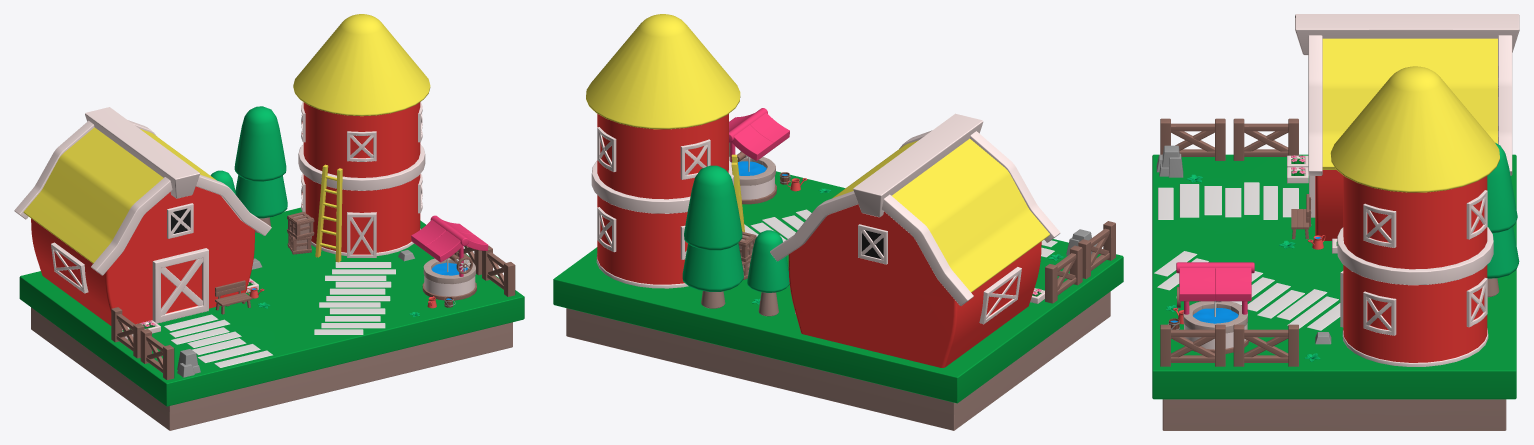
File: Farm_Island_9.glb
3 views of the same model, side by side, from view 1: azimuth 30°, elevation 25°; view 2: azimuth 150°, elevation 25°; view 3: azimuth 270°, elevation 25° (orthographic). The views are drawn at different scales.
Parts seen in each view (by area): view 1: Farm_9_Base_1, Farm_9_Barn_1, Farm_9_Barn_2, Farm_9_Tree_1, Farm_9_Well_1, Farm_9_Path_4, Farm_9_Path_3, Farm_9_Path_1, Farm_9_Ladder_1, Farm_9_Path_2, Farm_9_Fence_4, Farm_9_Fence_2 (+5 smaller); view 2: Farm_9_Barn_1, Farm_9_Base_1, Farm_9_Barn_2, Farm_9_Tree_1, Farm_9_Well_1, Farm_9_Tree_2, Farm_9_Fence_3, Farm_9_Fence_4, Farm_9_Path_3; view 3: Farm_9_Base_1, Farm_9_Barn_2, Farm_9_Barn_1, Farm_9_Well_1, Farm_9_Tree_1, Farm_9_Fence_1, Farm_9_Fence_2, Farm_9_Fence_3, Farm_9_Path_1, Farm_9_Path_3, Farm_9_Fence_4, Farm_9_Path_2 (+5 smaller).
Part boxes in pixels (bbox=[...]): Farm_9_Base_1: bbox=[19, 207, 524, 430]; Farm_9_Barn_1: bbox=[14, 107, 271, 325]; Farm_9_Barn_2: bbox=[293, 14, 430, 257]; Farm_9_Tree_1: bbox=[234, 106, 287, 232]; Farm_9_Well_1: bbox=[411, 215, 488, 300]; Farm_9_Path_4: bbox=[319, 288, 390, 314]; Farm_9_Path_3: bbox=[325, 262, 395, 287]; Farm_9_Path_1: bbox=[164, 314, 241, 347]; Farm_9_Ladder_1: bbox=[315, 164, 342, 262]; Farm_9_Path_2: bbox=[192, 338, 272, 367]; Farm_9_Fence_4: bbox=[140, 329, 174, 379]; Farm_9_Fence_2: bbox=[482, 245, 515, 296]; Farm_9_Barn_1: bbox=[770, 113, 1060, 367]; Farm_9_Base_1: bbox=[553, 171, 1123, 430]; Farm_9_Barn_2: bbox=[586, 14, 740, 288]; Farm_9_Tree_1: bbox=[682, 165, 743, 308]; Farm_9_Well_1: bbox=[729, 108, 789, 204]; Farm_9_Tree_2: bbox=[747, 230, 789, 316]; Farm_9_Fence_3: bbox=[1045, 245, 1082, 303]; Farm_9_Fence_4: bbox=[1078, 221, 1115, 278]; Farm_9_Path_3: bbox=[744, 217, 795, 241]; Farm_9_Base_1: bbox=[1152, 154, 1516, 430]; Farm_9_Barn_2: bbox=[1330, 66, 1499, 366]; Farm_9_Barn_1: bbox=[1295, 14, 1519, 240]; Farm_9_Well_1: bbox=[1176, 262, 1254, 353]; Farm_9_Tree_1: bbox=[1487, 142, 1519, 297]; Farm_9_Fence_1: bbox=[1233, 324, 1298, 366]; Farm_9_Fence_2: bbox=[1160, 324, 1225, 366]; Farm_9_Fence_3: bbox=[1233, 118, 1298, 160]; Farm_9_Path_1: bbox=[1225, 182, 1298, 219]; Farm_9_Path_3: bbox=[1257, 289, 1340, 330]; Farm_9_Fence_4: bbox=[1160, 118, 1225, 160]; Farm_9_Path_2: bbox=[1158, 184, 1221, 219].
Bounding box in the file's own units: 18.65 × 12.95 × 13.04.
35 materials, 35 textured.
